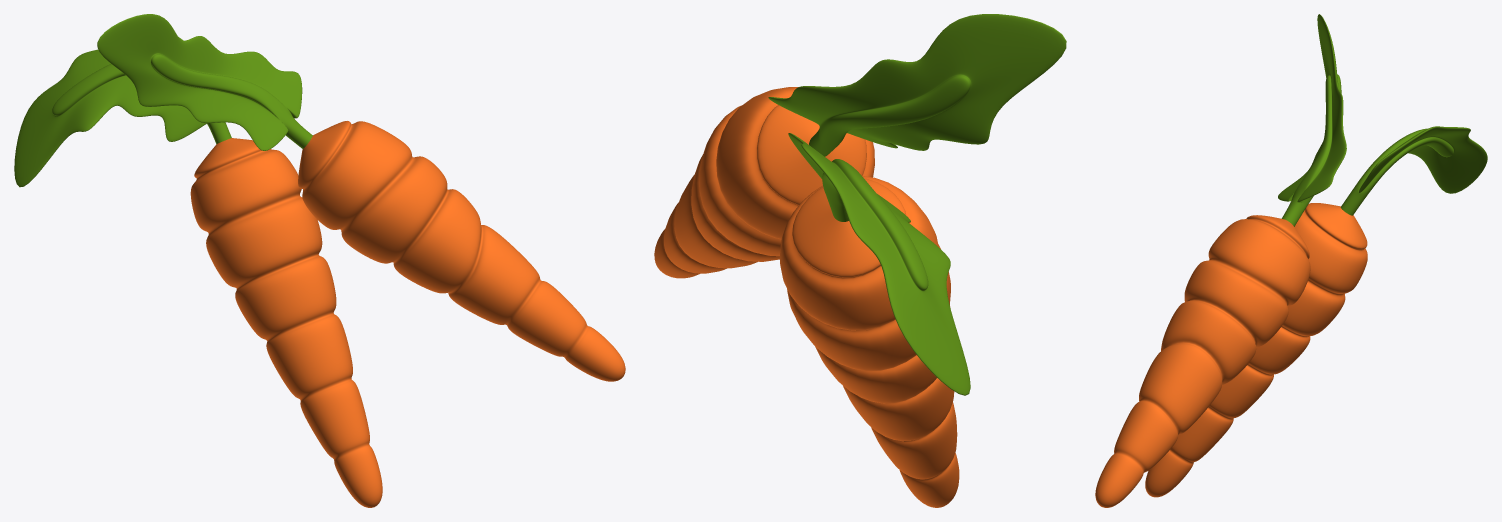
The model's file is carrot.gltf.
The picture shows the model from 3 angles, left to right: view 1: azimuth 30°, elevation 25°; view 2: azimuth 150°, elevation 25°; view 3: azimuth 270°, elevation 25°; orthographic projection. The views are drawn at different scales.
Parts seen in each view (by area): view 1: Cube.033; view 2: Cube.033; view 3: Cube.033.
Boxes of the visible parts, <box> form: Cube.033: <box>14,14,625,507</box>; Cube.033: <box>654,14,1066,507</box>; Cube.033: <box>1095,14,1487,507</box>.
Bounding box in the file's own units: 8.72 × 9.2 × 7.97.
